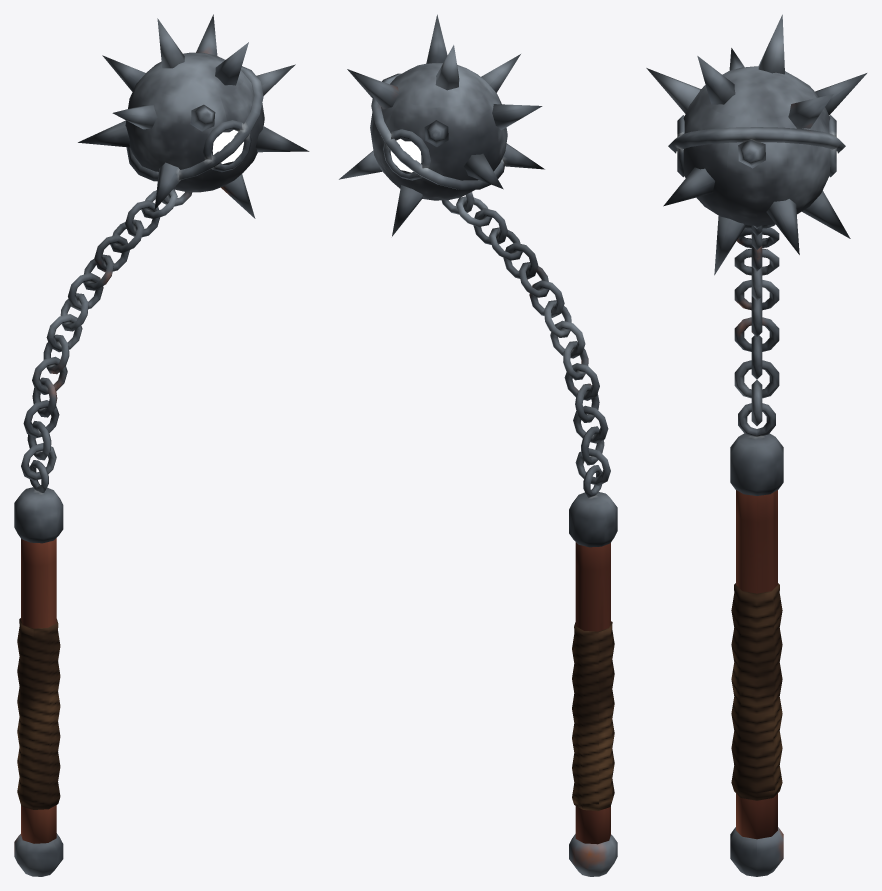
Rendered from ChainFlail.fbx.
The picture shows the model from 3 angles, left to right: view 1: azimuth 30°, elevation 25°; view 2: azimuth 150°, elevation 25°; view 3: azimuth 270°, elevation 25°; orthographic projection. The views are drawn at different scales.
Parts seen in each view (by area): view 1: ChainFlail; view 2: ChainFlail; view 3: ChainFlail.
Part boxes in pixels (<box>): ChainFlail: <box>14,14,309,876</box>; ChainFlail: <box>339,14,617,876</box>; ChainFlail: <box>646,14,866,876</box>.
Bounding box in the file's own units: 0.3341 × 0.9495 × 0.2047.
